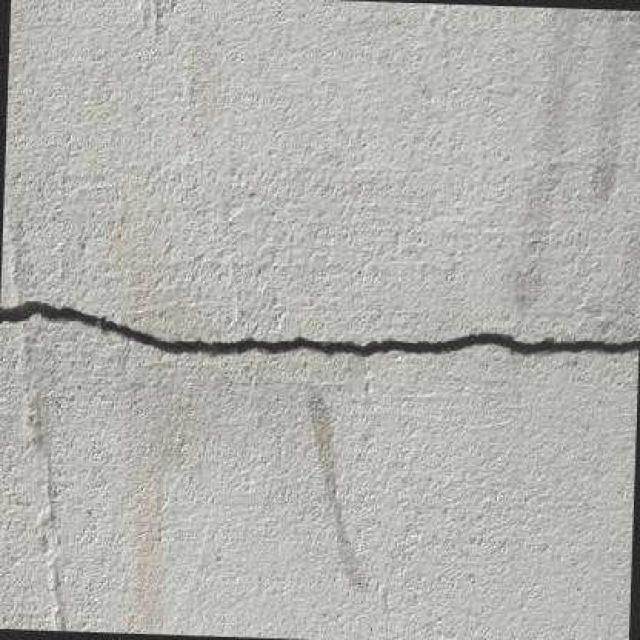D00: (0, 299, 640, 360)
